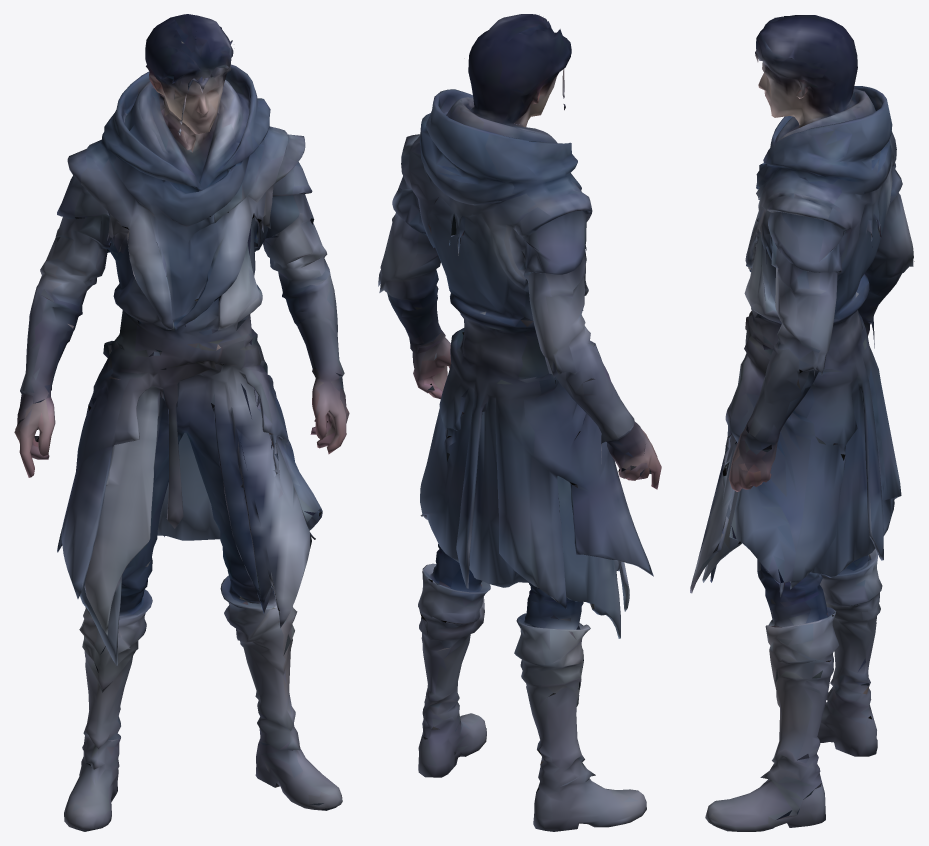
The model's file is hunter_m.glb.
3 renders of one model, left to right at view 1: azimuth 30°, elevation 25°; view 2: azimuth 150°, elevation 25°; view 3: azimuth 270°, elevation 25°, orthographic. The views are drawn at different scales.
Parts seen in each view (by area): view 1: hunter_m; view 2: hunter_m; view 3: hunter_m.
Boxes of the visible parts, x1,y1,x2,y2 form: hunter_m: (14, 14, 349, 831); hunter_m: (378, 14, 661, 831); hunter_m: (690, 15, 914, 831).
Bounding box in the file's own units: 0.7333 × 1.85 × 0.494.
Materials: 1 (1 with a texture image).
